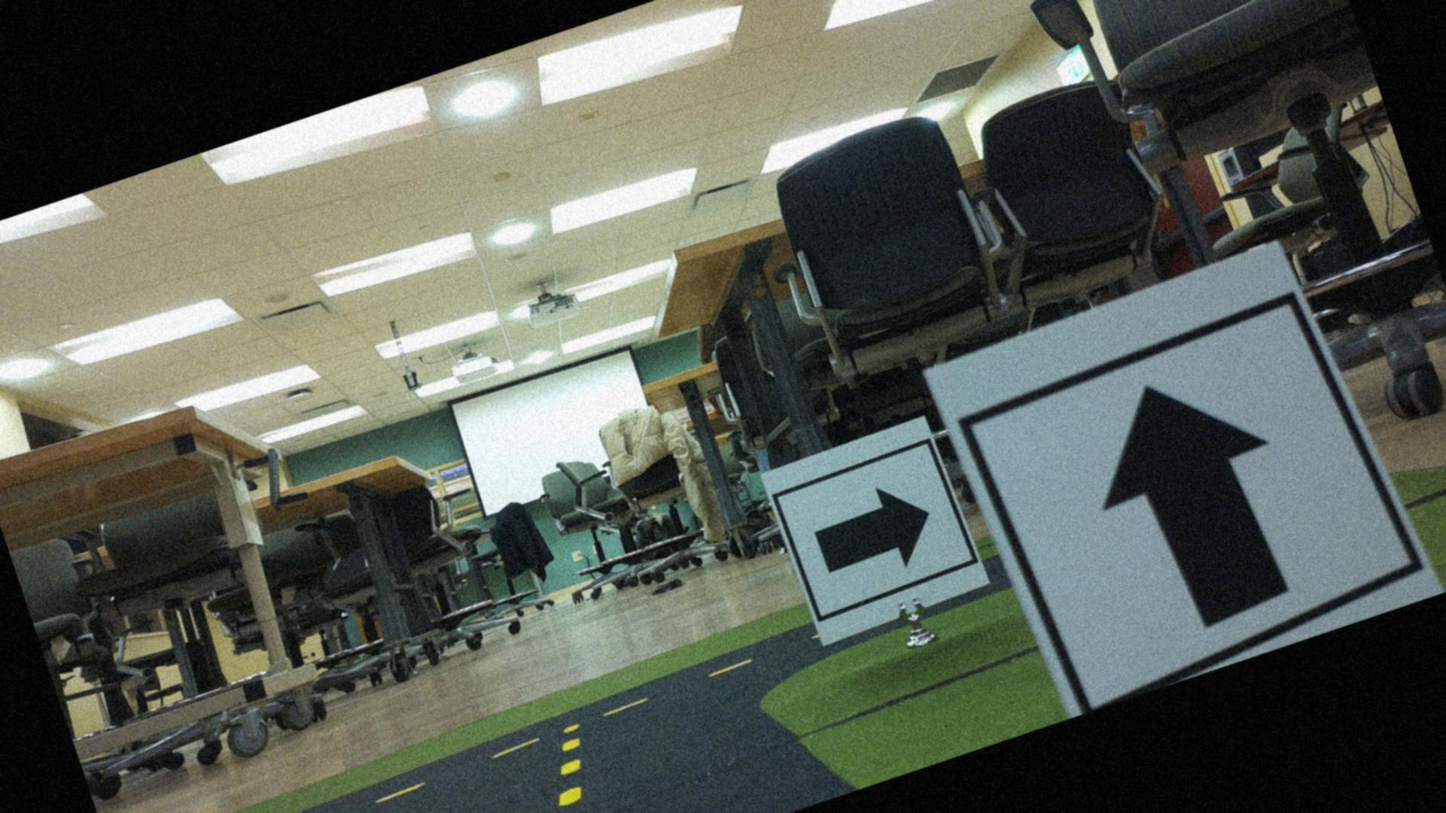gostraight: (952, 258, 1396, 708)
turnleft: (759, 422, 981, 647)
yellowline: (500, 735, 621, 812)
